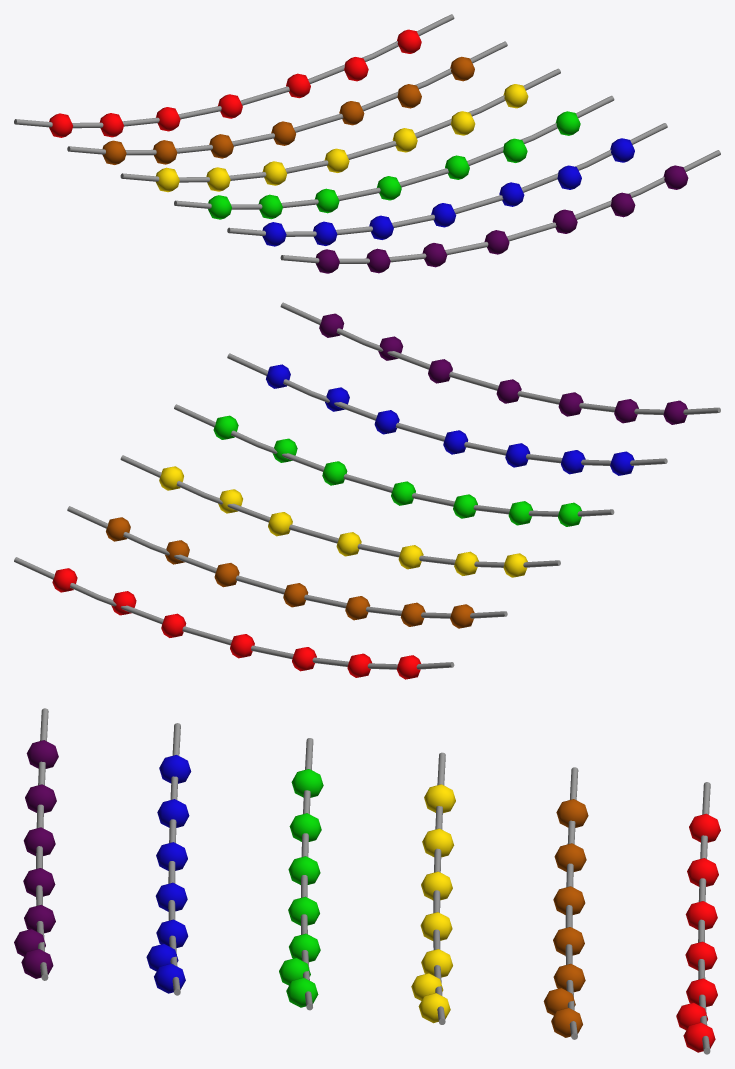
The model's file is MOD_Guirlandes.FBX.
3 views of the same model, one above another, from view 1: azimuth 30°, elevation 25°; view 2: azimuth 150°, elevation 25°; view 3: azimuth 270°, elevation 25° (orthographic). The views are drawn at different scales.
Parts seen in each view (by area): view 1: Line008, Line005, Line009, Line010, Line006, Line007; view 2: Line006, Line008, Line009, Line007, Line005, Line010; view 3: Line006, Line008, Line009, Line010, Line005, Line007.
Boxes of the visible parts, <box> form: Line008: <box>120,68,560,192</box>; Line005: <box>280,150,720,273</box>; Line009: <box>67,41,507,164</box>; Line010: <box>14,14,454,137</box>; Line006: <box>227,123,667,246</box>; Line007: <box>174,95,614,219</box>; Line006: <box>227,353,667,475</box>; Line008: <box>120,455,560,577</box>; Line009: <box>67,506,507,628</box>; Line007: <box>174,404,614,526</box>; Line005: <box>280,302,720,424</box>; Line010: <box>14,557,454,679</box>; Line006: <box>146,723,191,995</box>; Line008: <box>411,752,455,1024</box>; Line009: <box>543,767,588,1039</box>; Line010: <box>676,782,720,1054</box>; Line005: <box>14,708,58,980</box>; Line007: <box>279,738,323,1010</box>.
Size of the model in its own units: 60.61 by 14.31 by 68.16.
